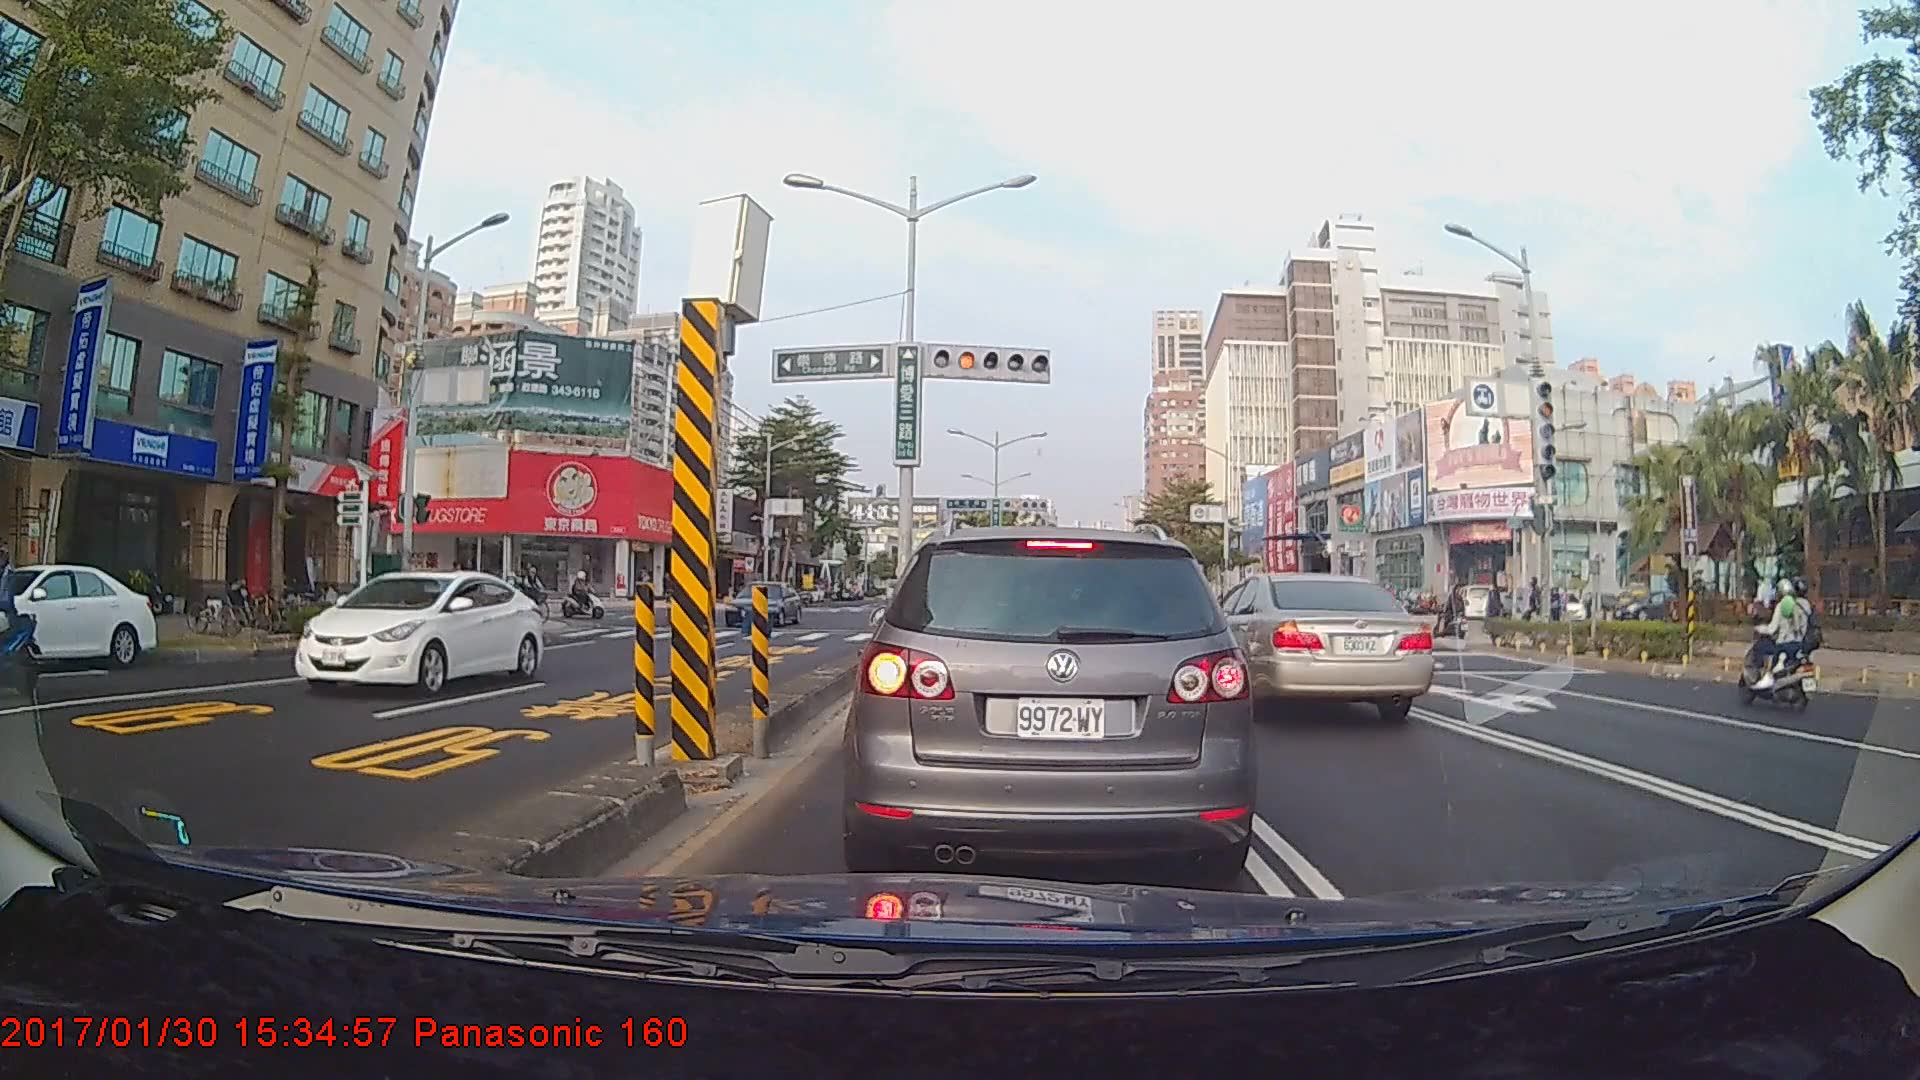pedestrian: (1749, 575, 1775, 646), (1484, 579, 1508, 637), (448, 558, 468, 621)
rider: (1734, 575, 1824, 711), (561, 568, 613, 625), (1436, 582, 1473, 646)
vehicle: (854, 525, 1246, 876), (1200, 570, 1433, 726), (293, 569, 543, 697), (0, 561, 170, 671), (721, 580, 802, 627)
